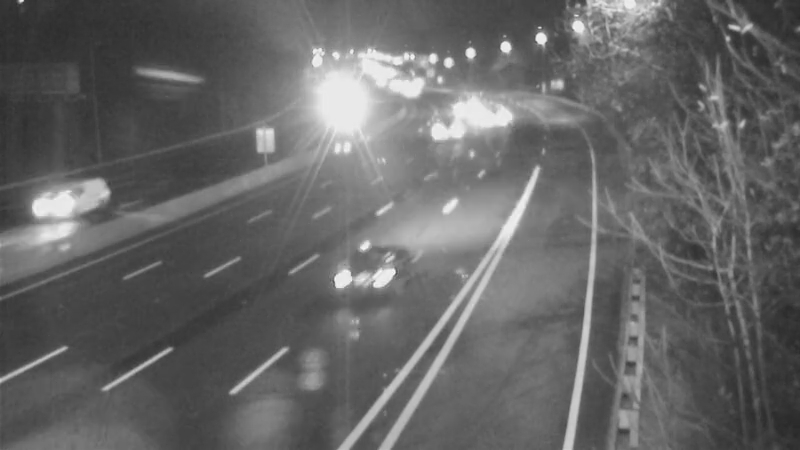vehicle: (317, 235, 397, 315), (14, 162, 94, 242), (439, 83, 489, 133), (467, 95, 517, 145), (422, 101, 472, 151), (310, 89, 360, 139)
